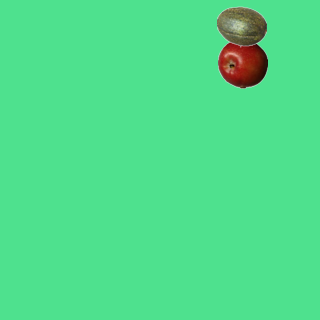Apple Braeburn: (217, 38, 267, 88)
Melon Piel de Sapo: (216, 1, 266, 51)
